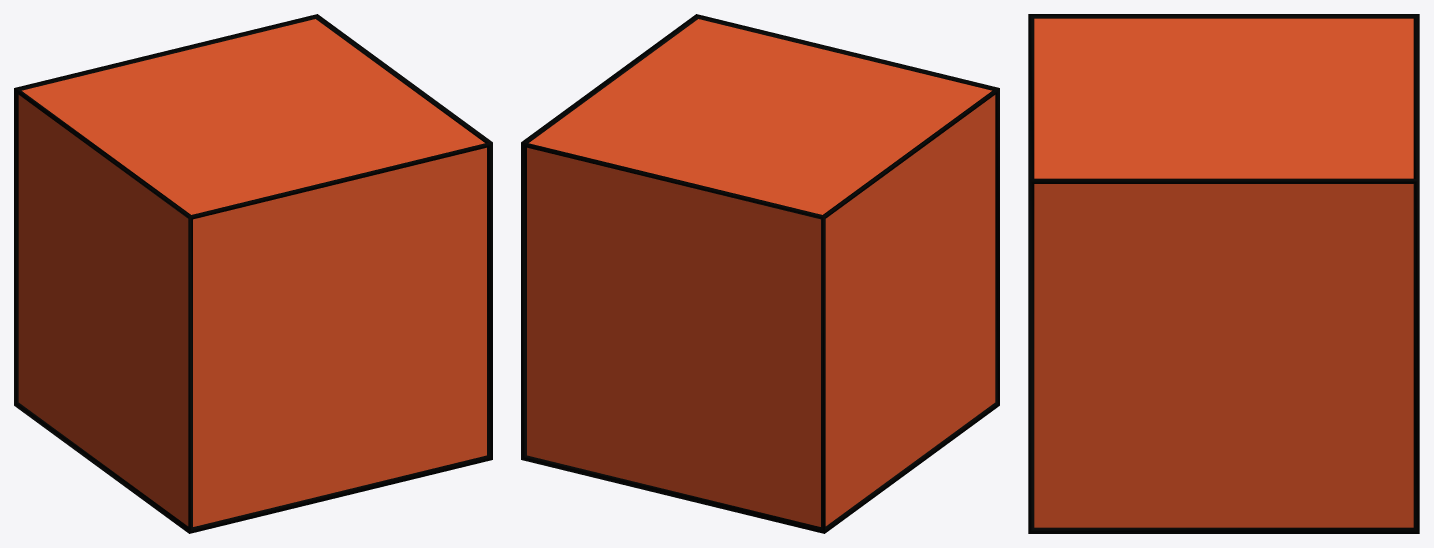
The model's file is cube_orange.obj.
The picture shows the model from 3 angles, left to right: view 1: azimuth 30°, elevation 25°; view 2: azimuth 150°, elevation 25°; view 3: azimuth 270°, elevation 25°; orthographic projection. The views are drawn at different scales.
Visible parts, largest first — view 1: Cube_orange, Cube_green; view 2: Cube_orange, Cube_green; view 3: Cube_orange, Cube_green.
Boxes of the visible parts, x1,y1,x2,y2 form: Cube_orange: (18,19,486,526); Cube_green: (14,14,492,533); Cube_orange: (527,19,995,526); Cube_green: (521,14,999,533); Cube_orange: (1034,18,1413,527); Cube_green: (1028,14,1419,533).
Size of the model in its own units: 0.0506 by 0.0506 by 0.0506.
